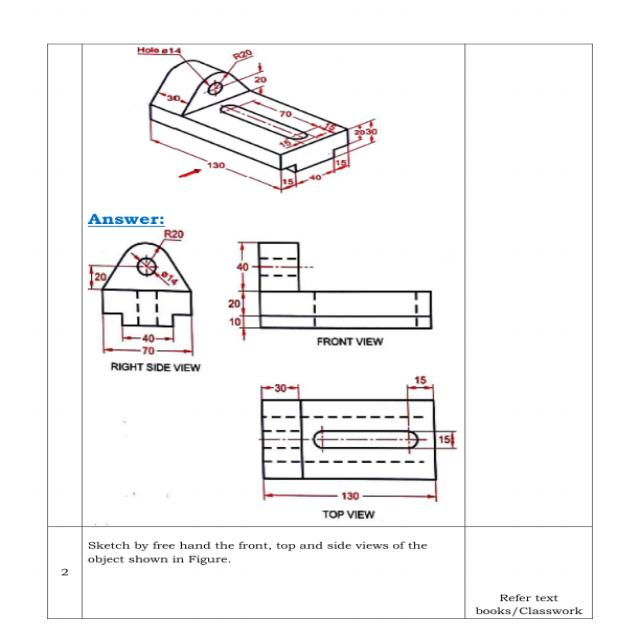Drawings: (98, 41, 429, 213), (237, 374, 464, 524), (223, 236, 450, 366), (77, 226, 220, 380)
